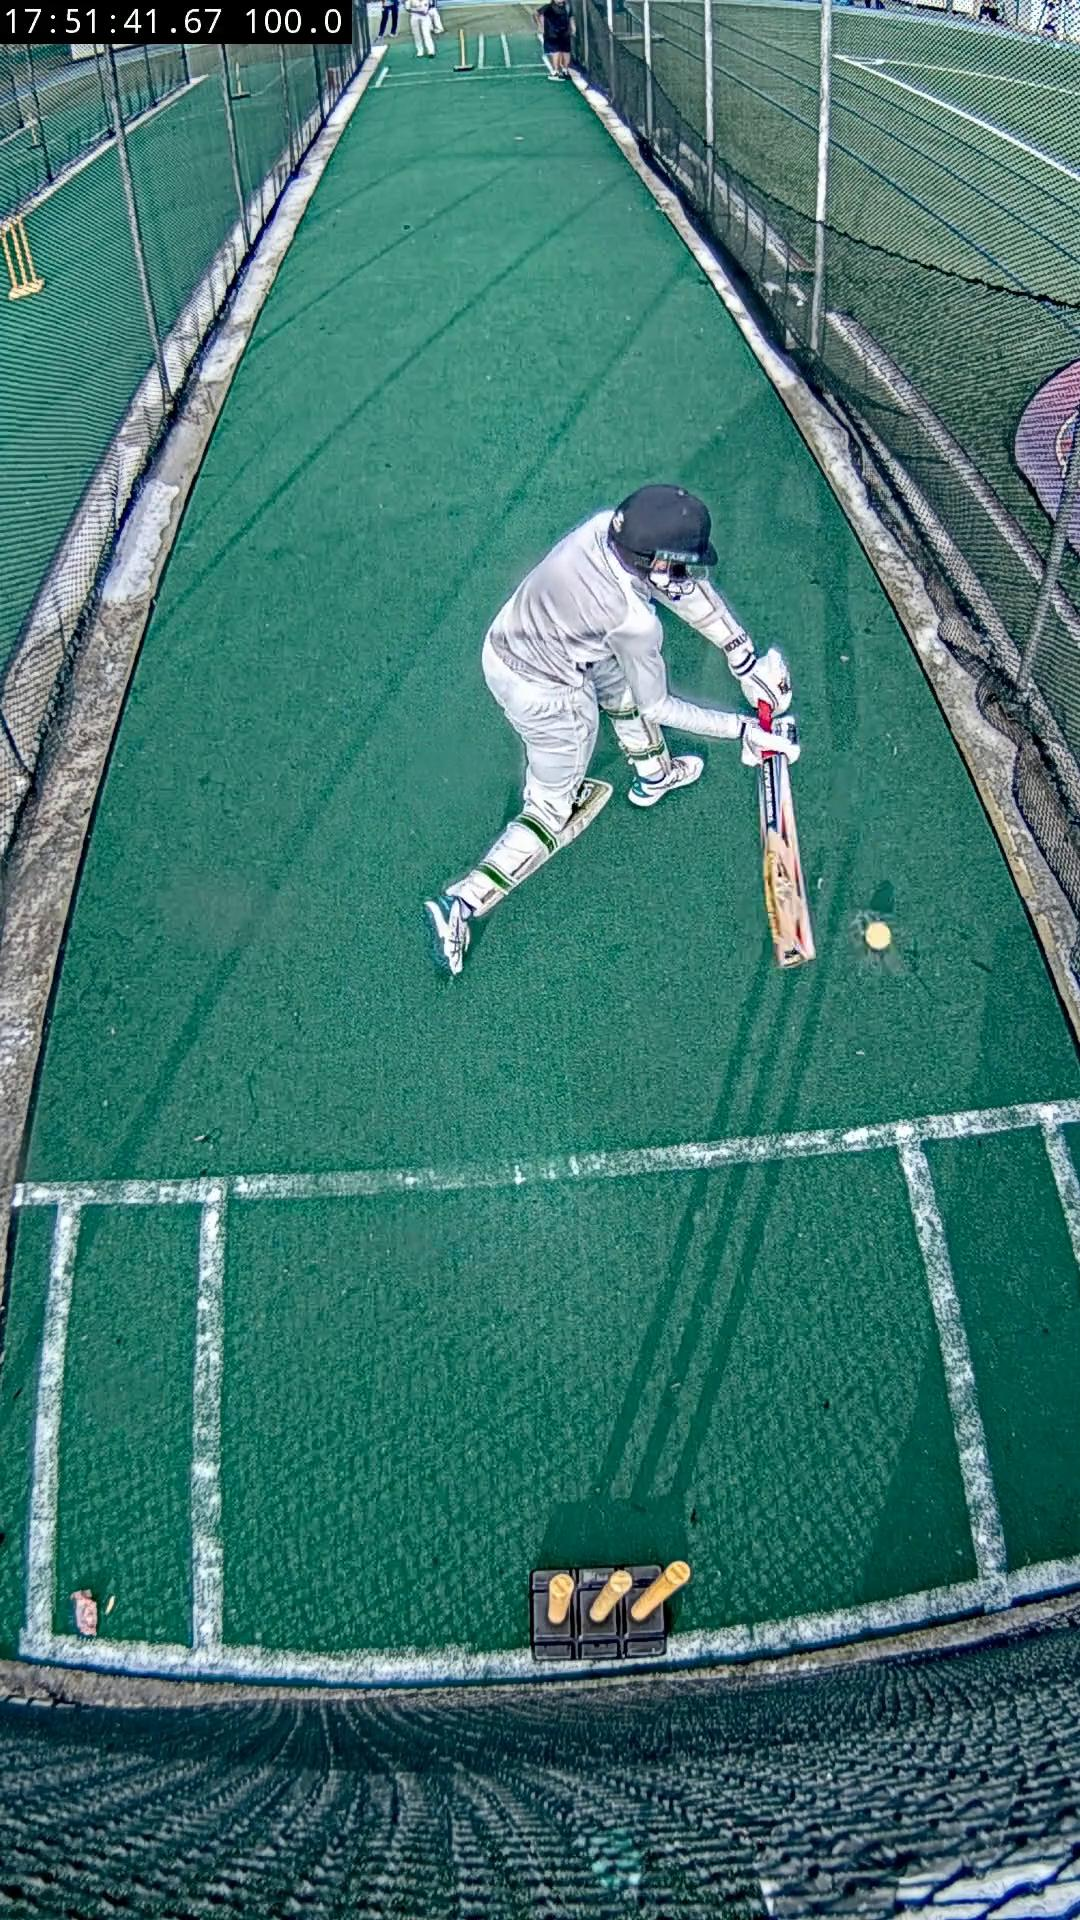ball: (866, 919, 893, 951)
bat: (757, 754, 814, 968)
gloves: (738, 649, 791, 712), (742, 720, 799, 764)
helmet: (612, 484, 716, 596)
pads: (555, 781, 615, 849)
stumps: (529, 1560, 690, 1662)
